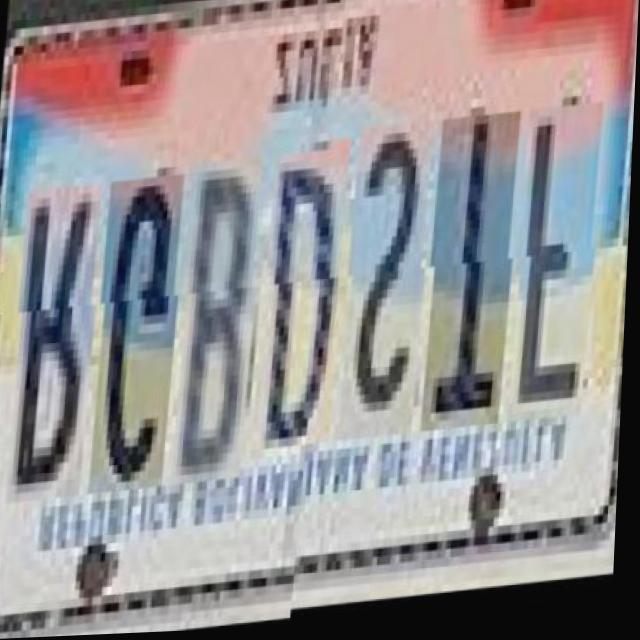b: (174, 154, 266, 481)
d: (257, 146, 353, 456)
f: (509, 116, 605, 434)
g: (93, 169, 188, 489)
r: (9, 176, 105, 496)
s: (341, 131, 436, 449)
t: (422, 123, 523, 443)
